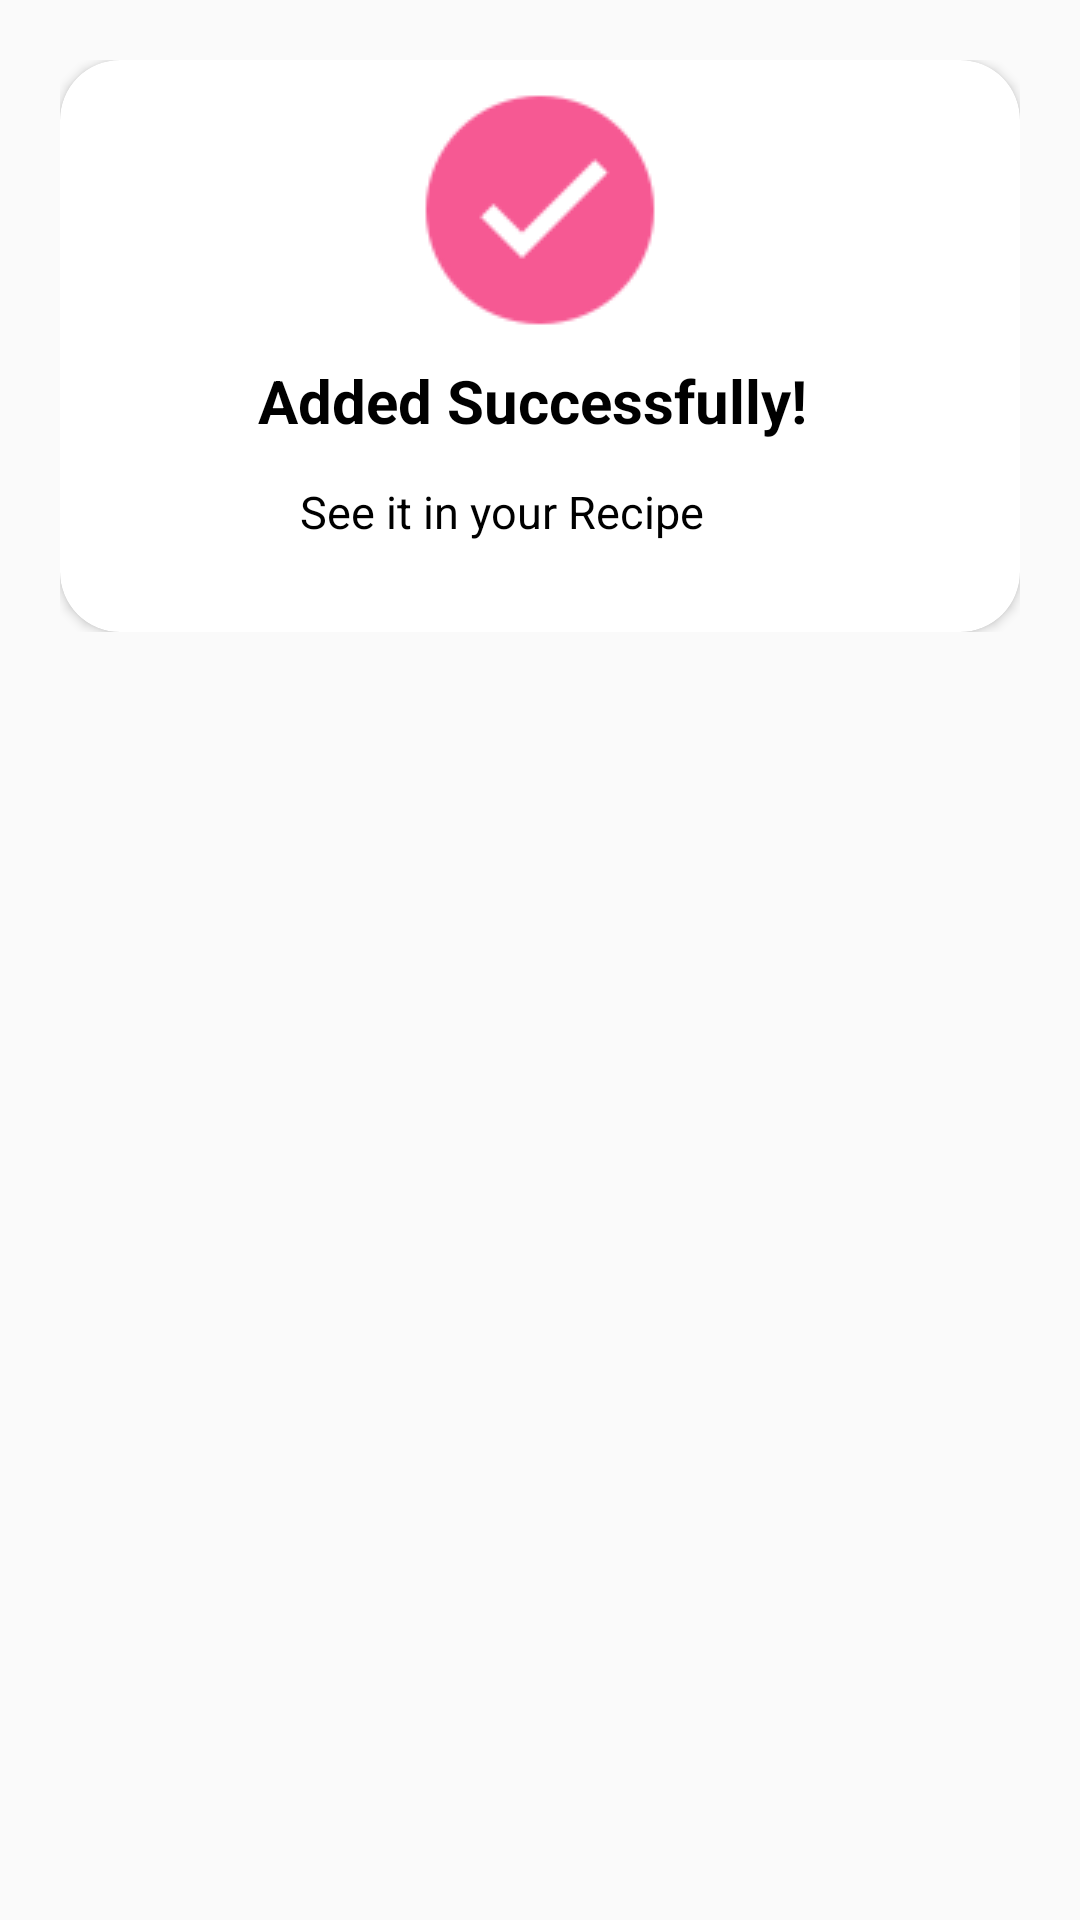

Locate icon controls on the screen. Image size 1080px x 1920px, boxes as (x1, y1, x2, y2).
checked add: (425, 95, 655, 325)
